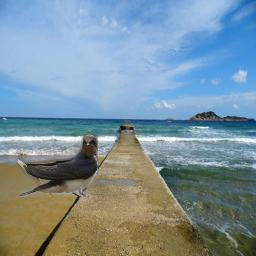Swallow: (18, 134, 98, 197)
